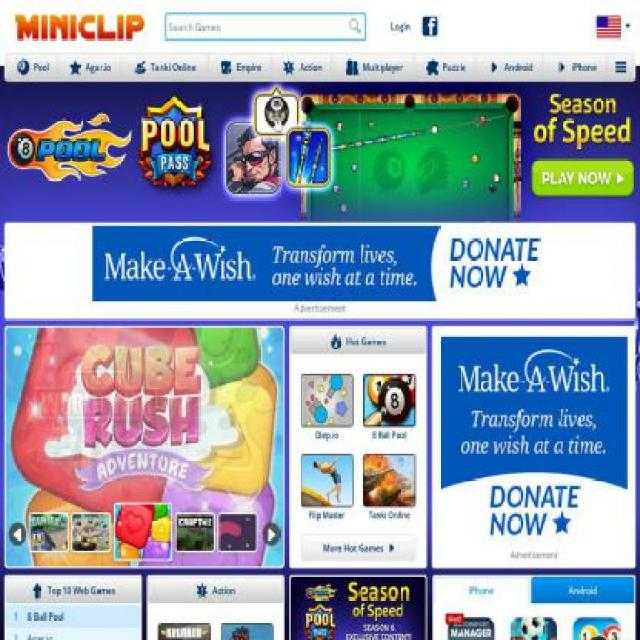button: (5, 328, 284, 566), (5, 576, 141, 604), (291, 327, 426, 355), (148, 576, 283, 604), (301, 374, 353, 444), (363, 374, 415, 444), (301, 454, 353, 524), (363, 454, 415, 524), (300, 534, 417, 561), (5, 606, 141, 628), (532, 576, 634, 604), (434, 576, 529, 604), (120, 53, 208, 81), (332, 53, 414, 81), (475, 53, 542, 81), (542, 53, 607, 81), (57, 53, 120, 81), (208, 53, 270, 81), (271, 53, 332, 81), (414, 53, 475, 81), (5, 628, 141, 640), (5, 53, 58, 81), (595, 13, 636, 41), (444, 618, 498, 639), (508, 618, 562, 639), (570, 618, 624, 639), (158, 623, 212, 640), (220, 623, 274, 640), (607, 53, 635, 81), (391, 13, 411, 41), (422, 13, 438, 41), (346, 16, 365, 38)
field: (166, 13, 366, 41)
